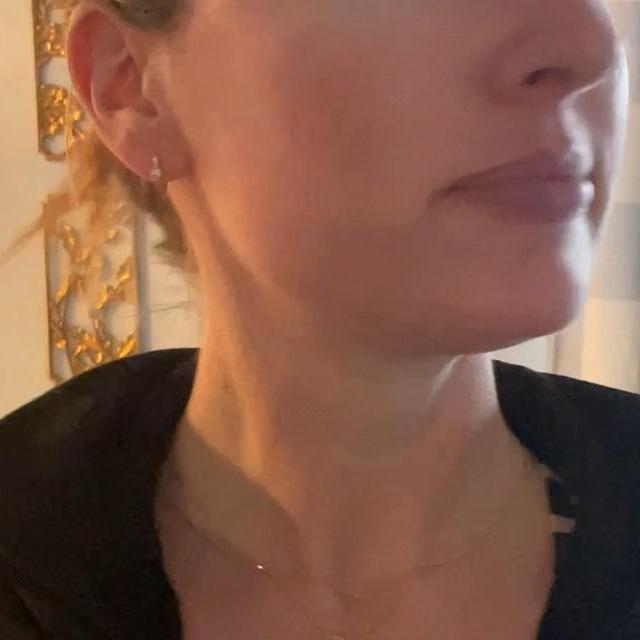NO-Mask: (111, 0, 623, 350)
NO-Safety Vest: (0, 506, 640, 640)
Person: (0, 0, 640, 640)
